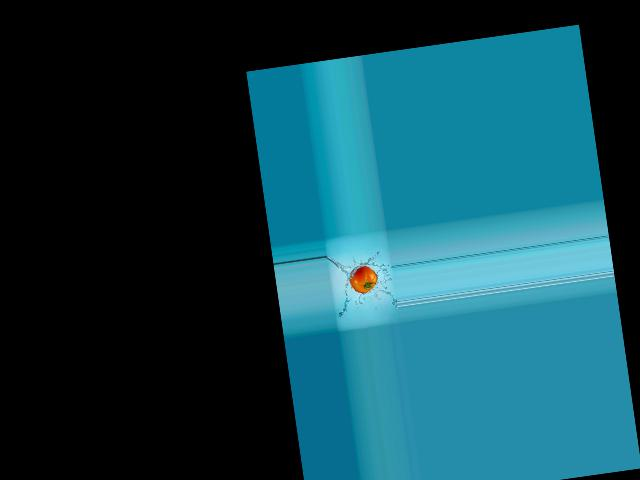tomato: (348, 264, 379, 294)
